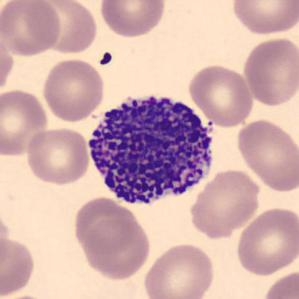Basophil: (82, 85, 223, 212)
Platelets: (98, 50, 114, 67)
RBC: (187, 166, 262, 239), (76, 215, 153, 283), (234, 116, 298, 194), (234, 204, 298, 278), (186, 62, 255, 128), (141, 240, 216, 299), (40, 56, 106, 123), (241, 34, 298, 108), (72, 195, 140, 256), (24, 125, 90, 186), (0, 0, 64, 57), (34, 0, 99, 55), (0, 87, 50, 158), (97, 0, 169, 39), (228, 0, 298, 36), (0, 234, 37, 298), (260, 268, 298, 299), (0, 30, 16, 96), (0, 209, 12, 273), (0, 293, 62, 299)
